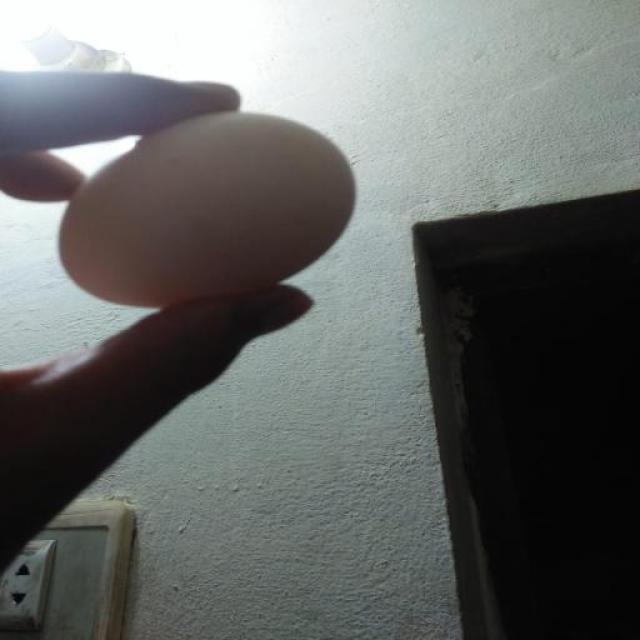telur: (62, 114, 356, 305)
